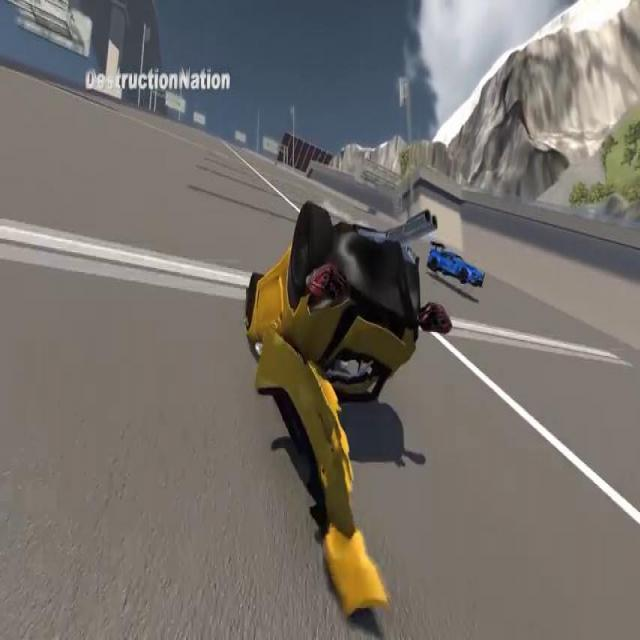accident: (242, 208, 450, 615)
